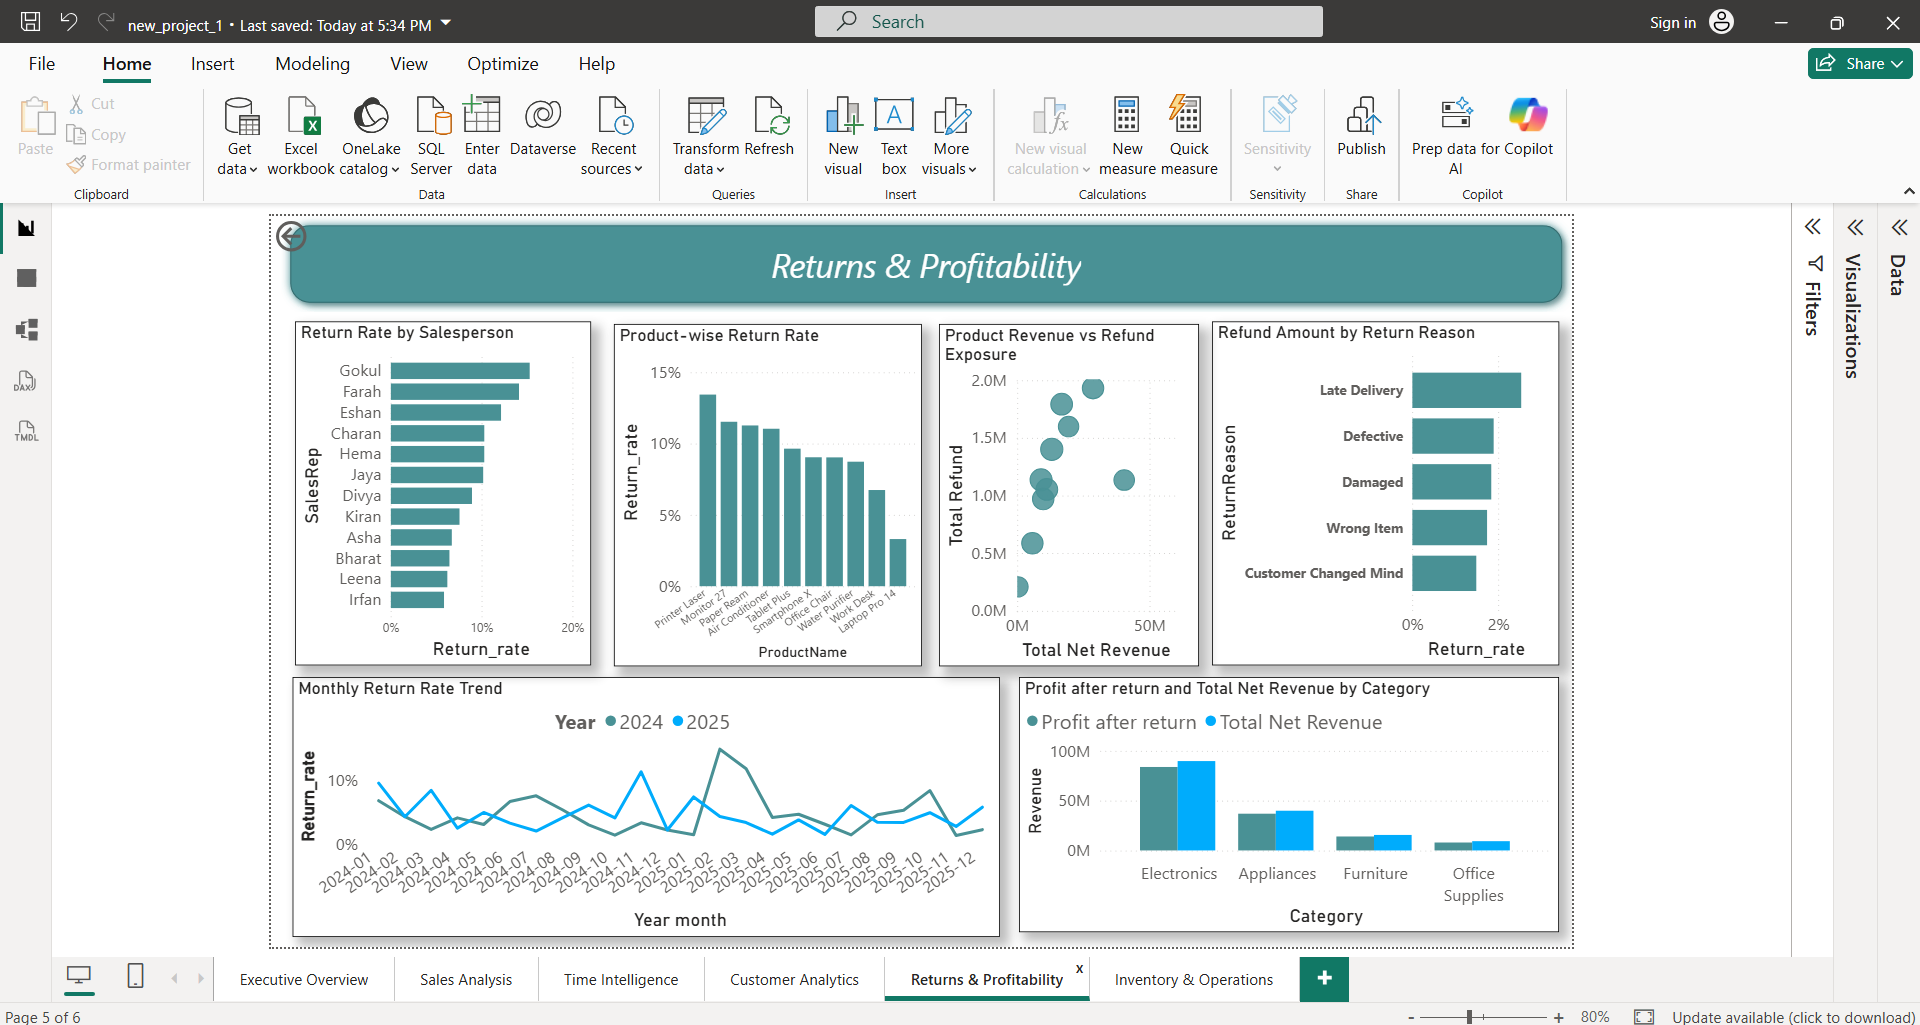

This screenshot's page, from the dashboard's own definition file:
{"tool":"powerbi","page":{"name":"Returns & Profitability","canvas":[1280,720],"ordinal":4},"visuals":[{"type":"shape","box":[10,0,1270,94.3],"z":0},{"type":"clusteredBarChart","title":"Refund Amount by Return Reason","fields":{"Category":["Returns_Raw.ReturnReason"],"Y":["Orders_Raw.Return_rate"]},"box":[925.7,104.3,341.4,338.6],"z":1000},{"type":"actionButton","box":[0,0,100,40],"z":2000},{"type":"clusteredColumnChart","title":"Product-wise Return Rate","fields":{"Category":["Products.ProductName"],"Y":["Orders_Raw.Return_rate"]},"box":[337.1,105.7,302.9,337.1],"z":3000},{"type":"lineChart","title":"Monthly Return Rate Trend","fields":{"Category":["Orders_Raw.Year month"],"Y":["Orders_Raw.Return_rate"],"Series":["Returns_Raw.ReturnDate.Variation.Date Hierarchy.Year"]},"box":[21.4,454.3,695.7,255.7],"z":4000},{"type":"clusteredBarChart","title":"Return Rate by Salesperson","fields":{"Category":["SalesReps.SalesRep"],"Y":["Orders_Raw.Return_rate"]},"box":[24.3,104.3,291.4,338.6],"z":5000},{"type":"scatterChart","title":"Product Revenue vs Refund Exposure","fields":{"X":["Orders_Raw.Total Net Revenue"],"Y":["Sum(Returns_Raw.RefundAmount_INR)"],"Category":["Products.ProductName"],"Size":["Sum(Orders_Raw.Quantity)"]},"box":[657.1,105.7,255.7,337.1],"z":5001},{"type":"clusteredColumnChart","fields":{"Category":["Products.Category"],"Y":["Orders_Raw.Profit after return","Orders_Raw.Total Net Revenue"]},"box":[735.7,454.3,531.4,251.4],"z":5002}]}

Visuals, with their boxes on the page's 1280x720 design canvas (x1, y1, x2, y2). These are canvas units, not pixel positions in the 1920x1025 screenshot, which may show the page scaled, cropped or inside an application window:
shape: [10,0,1280,94]
"Refund Amount by Return Reason" clusteredBarChart: [926,104,1267,443]
actionButton: [0,0,100,40]
"Product-wise Return Rate" clusteredColumnChart: [337,106,640,443]
"Monthly Return Rate Trend" lineChart: [21,454,717,710]
"Return Rate by Salesperson" clusteredBarChart: [24,104,316,443]
"Product Revenue vs Refund Exposure" scatterChart: [657,106,913,443]
clusteredColumnChart - Products.Category x Orders_Raw.Profit after return: [736,454,1267,706]
